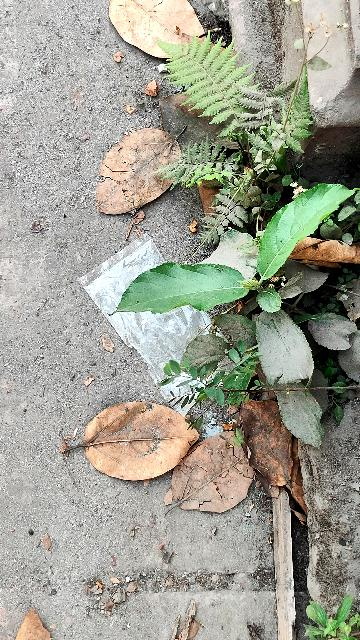polythene: (79, 234, 228, 410)
